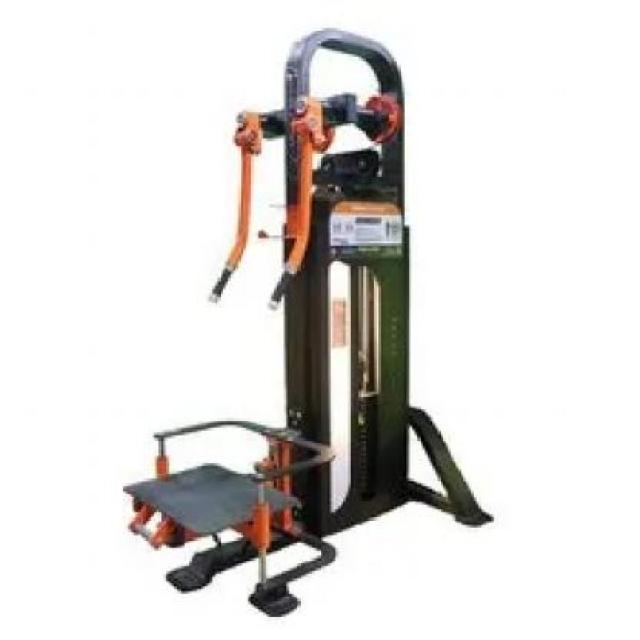lateral raises machine: (124, 31, 493, 617)
